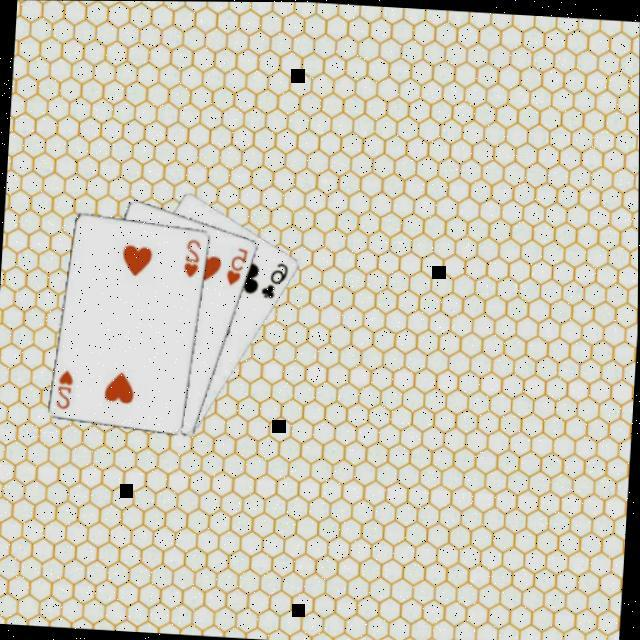2H: (178, 236, 202, 281), (52, 367, 75, 412)
5H: (222, 243, 250, 288)
6C: (256, 259, 289, 303)
